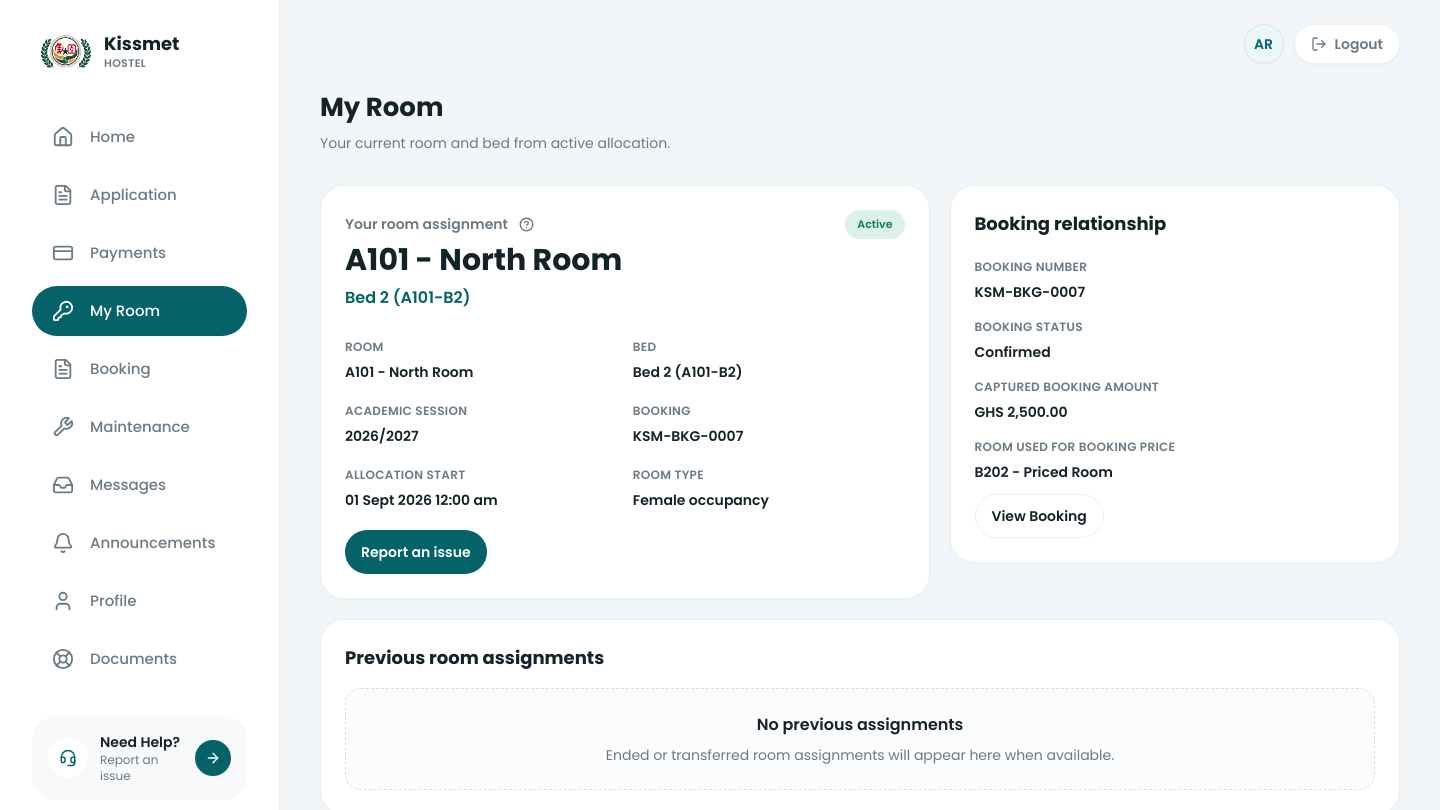
Test case: resident my room › keeps priced room distinct from assigned room
expect the text "Your room assignment" is shown: met, box 345,210 -> 540,238
expect the heading "A101 - North Room" is shown: met, box 345,242 -> 622,278
Click the button named "About allocation": click(526, 224) 512,210 -> 540,238
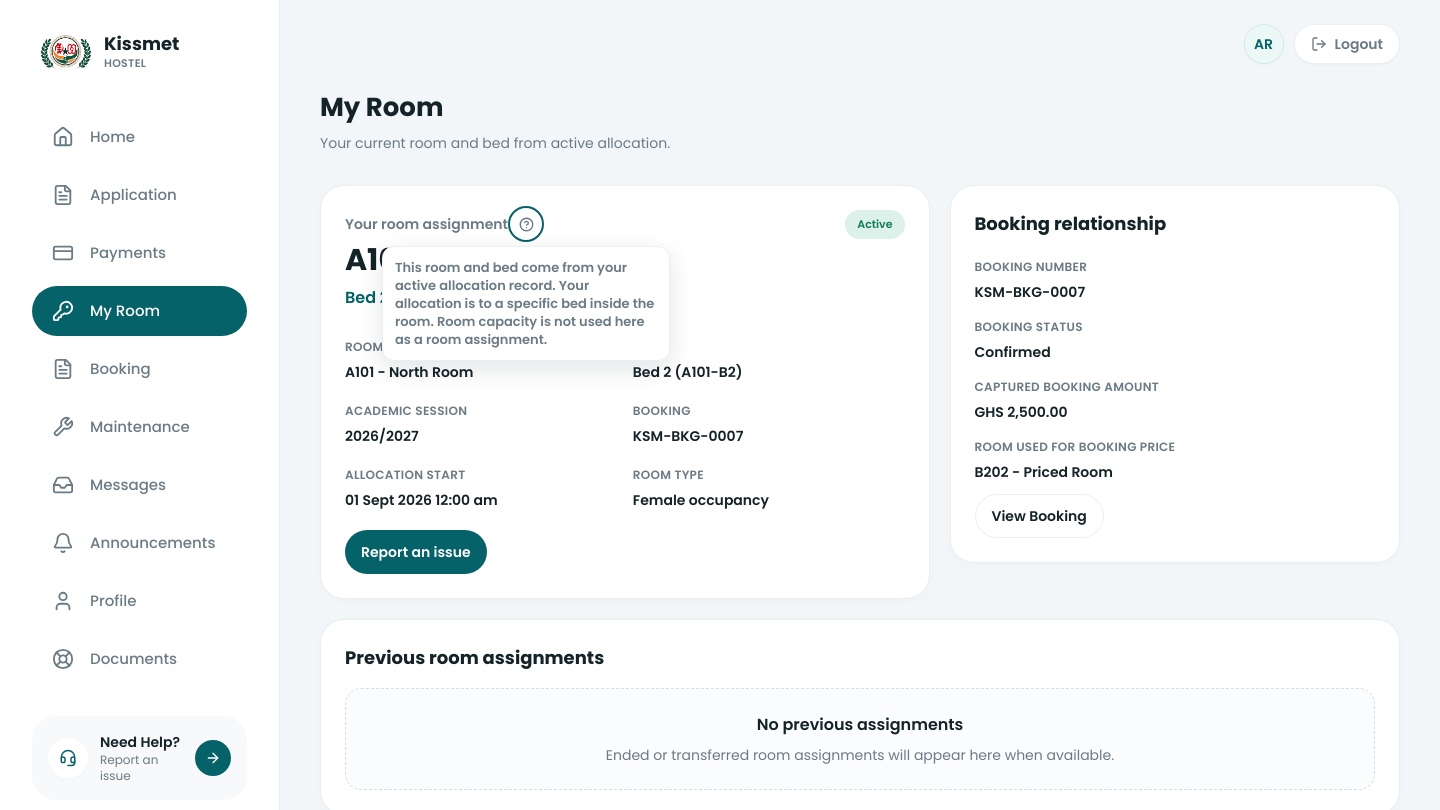
expect the tooltip "This room and bed come from your active allocation record" is shown: met, box 395,258 -> 654,348
